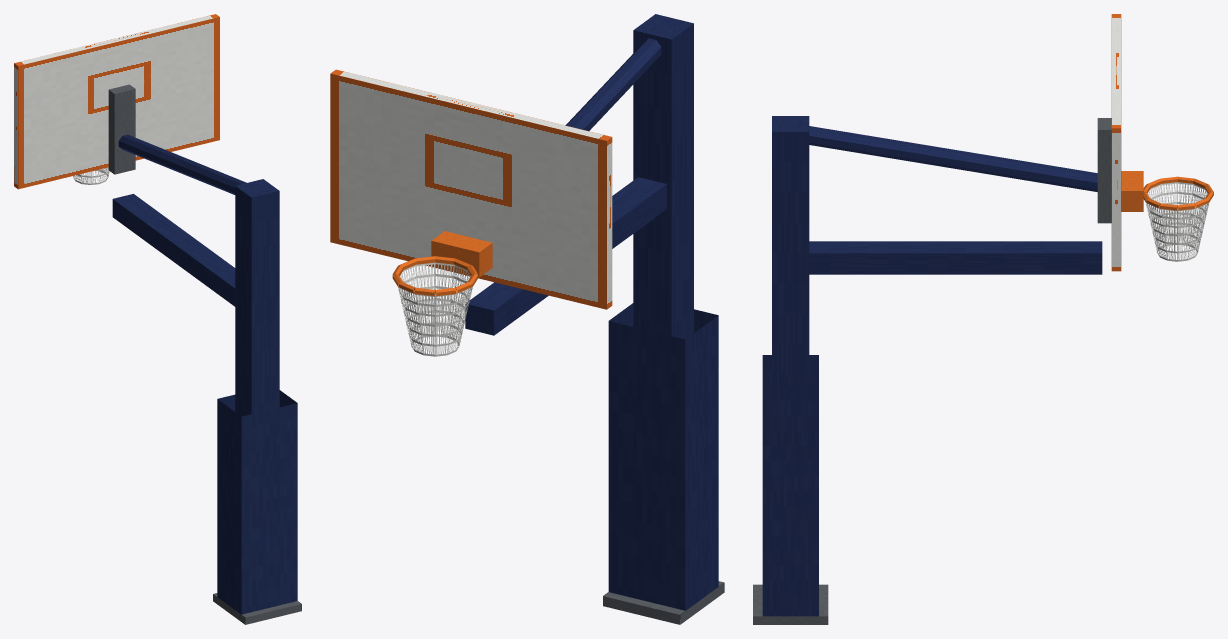
File: hoop_pole.obj
3 renders of one model, left to right at view 1: azimuth 30°, elevation 25°; view 2: azimuth 150°, elevation 25°; view 3: azimuth 270°, elevation 25°, orthographic. The views are drawn at different scales.
Parts seen in each view (by area): view 1: hoop_pole; view 2: hoop_pole; view 3: hoop_pole.
Boxes of the visible parts, x1,y1,x2,y2 form: hoop_pole: [14, 14, 301, 624]; hoop_pole: [330, 14, 724, 624]; hoop_pole: [753, 14, 1213, 624].
Size of the model in its own units: 1.8 by 3.95 by 3.07.
